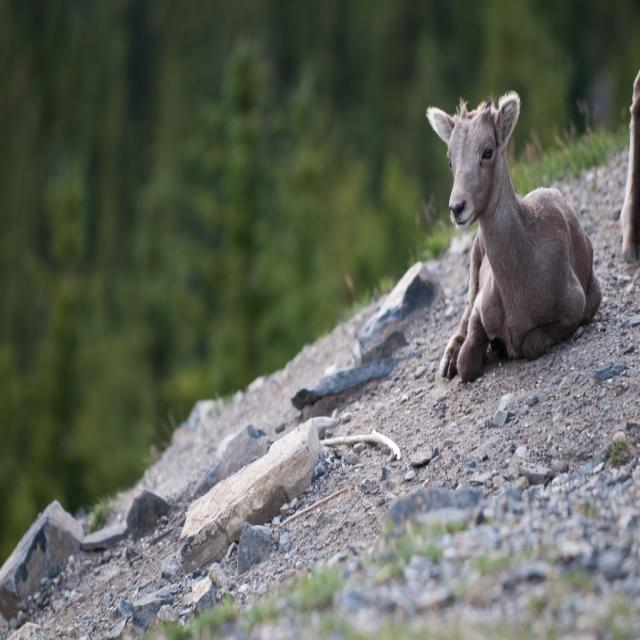Goat: (425, 90, 603, 383)
